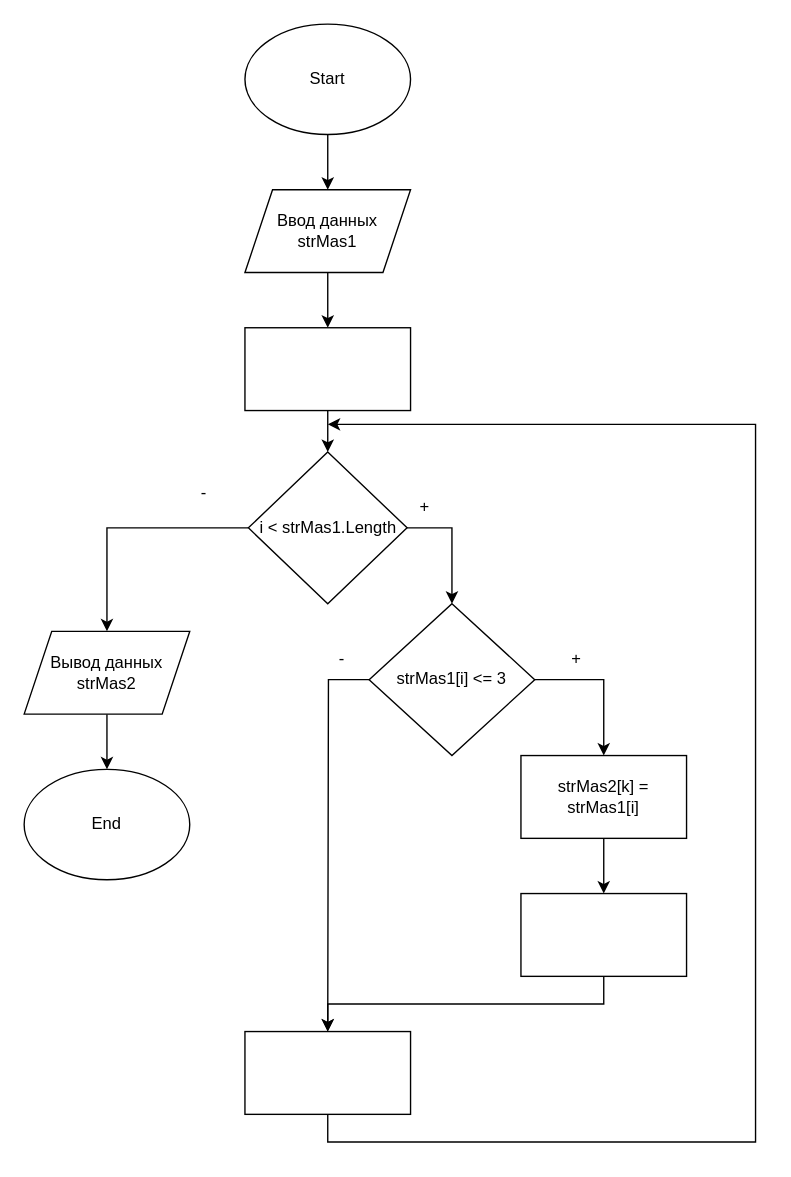
Some shapes in this 791 by 1177 pixel diagram are drawn without their labels. Here are the shapes that lost their labels. From the top down, the centre of each, then its label:
point 327,368: i=0; k=0; strMas2; strMas1.Length
point 603,934: k++
point 327,1072: i++
